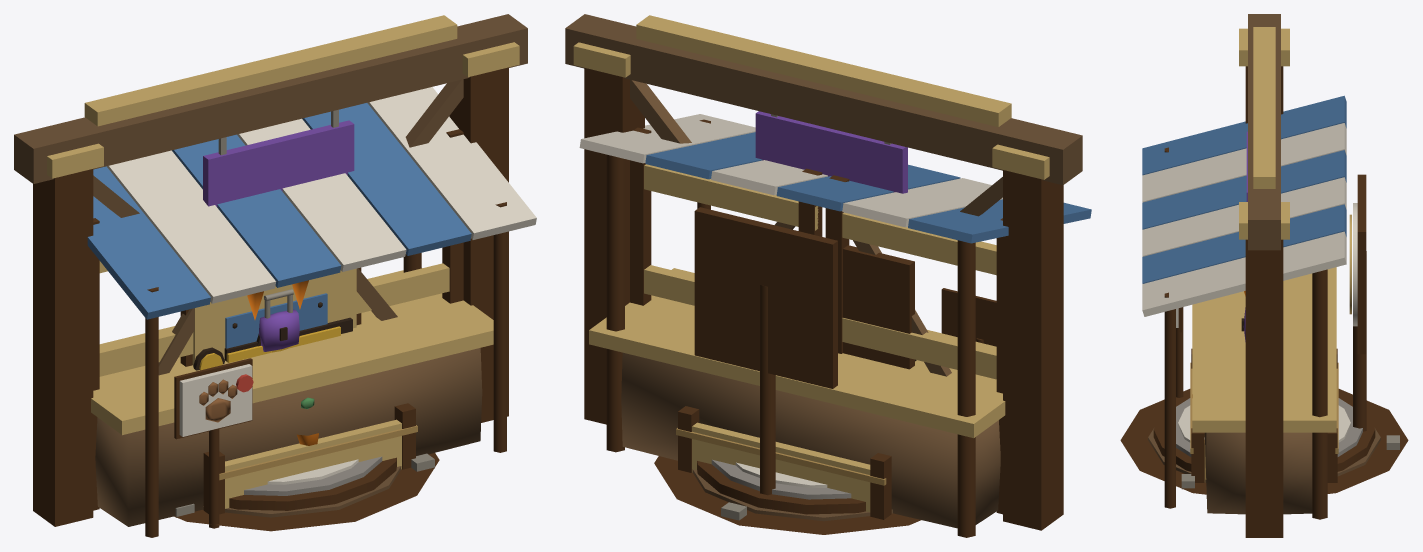
The model's file is world.glb.
3 renders of one model, left to right at view 1: azimuth 30°, elevation 25°; view 2: azimuth 150°, elevation 25°; view 3: azimuth 270°, elevation 25°, orthographic. The views are drawn at different scales.
Visible parts, largest first — view 1: market_stall, gate, stash_bin, gate_sign, pile_spot, sign_land, gate_door_r, gate_door_l, upgrade_station, sign_market, gate_padlock, land_bar_fill (+2 smaller); view 2: market_stall, gate, upgrade_station, gate_door_r, stash_bin, gate_door_l, gate_sign, sign_land, pile_spot, station_top; view 3: market_stall, gate, upgrade_station, pile_spot, stash_bin, station_top.
Part boxes in pixels (x1,y1,x2,y2): market_stall: (87, 87, 536, 537); gate: (14, 14, 527, 526); stash_bin: (174, 358, 417, 528); gate_sign: (203, 109, 354, 207); pile_spot: (174, 453, 439, 531); sign_land: (180, 267, 361, 366); gate_door_r: (93, 218, 194, 510); gate_door_l: (356, 129, 463, 320); upgrade_station: (229, 456, 396, 510); sign_market: (225, 293, 327, 348); gate_padlock: (259, 289, 299, 351); land_bar_fill: (226, 326, 340, 362); market_stall: (579, 114, 1091, 537); gate: (565, 14, 1082, 530); upgrade_station: (694, 207, 865, 514); gate_door_r: (825, 175, 1002, 514); stash_bin: (676, 288, 996, 519); gate_door_l: (630, 127, 822, 305); gate_sign: (755, 111, 907, 193); sign_land: (843, 245, 914, 369); pile_spot: (654, 456, 921, 534); station_top: (735, 462, 827, 488); market_stall: (1142, 95, 1346, 519); gate: (1239, 14, 1289, 537); upgrade_station: (1153, 174, 1375, 471); pile_spot: (1120, 389, 1408, 494); stash_bin: (1176, 307, 1338, 482); station_top: (1178, 405, 1350, 442).
Size of the model in its own units: 4.4 by 3.72 by 2.6.
